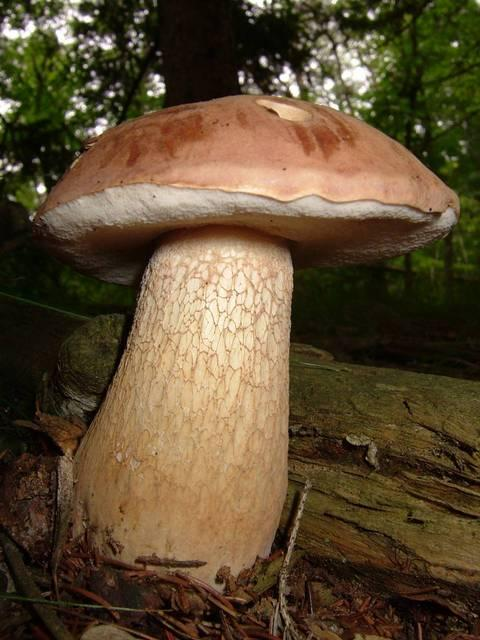Non-edible Mushroom: (29, 92, 461, 594)
